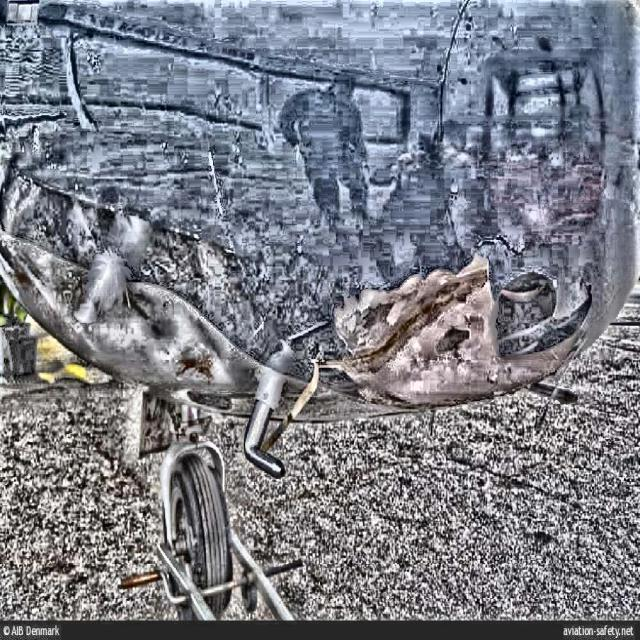crack: (478, 233, 529, 264)
dent: (130, 295, 183, 352), (190, 310, 231, 379)
